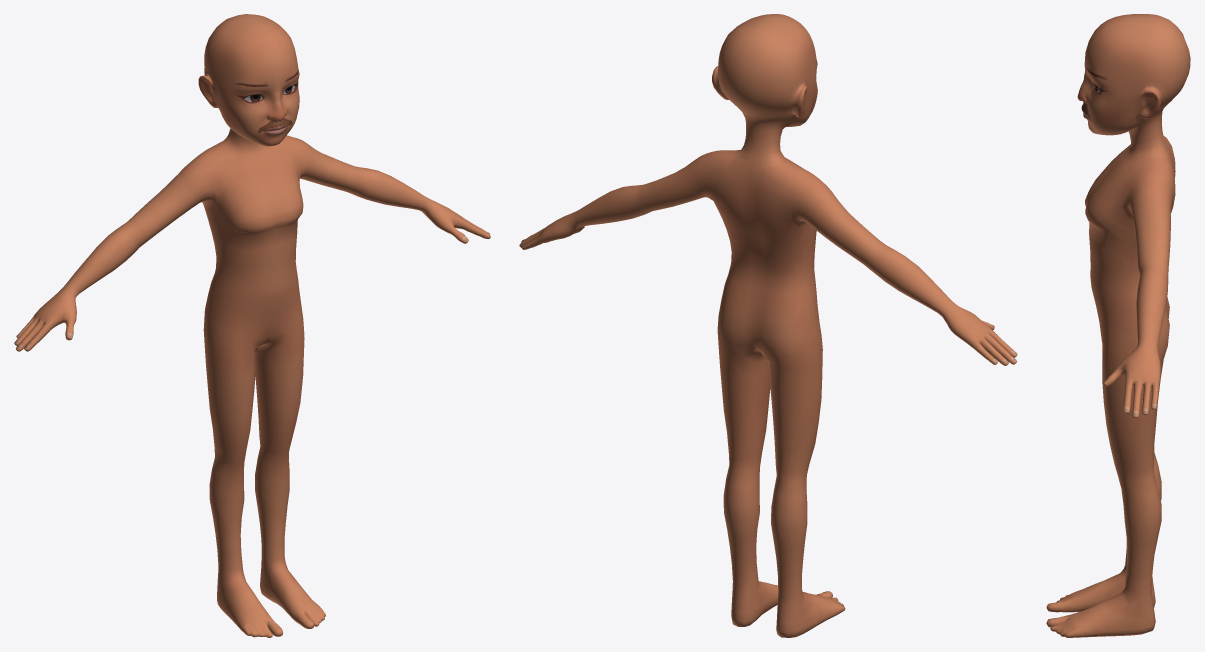
The model's file is frame_0089.glb.
The picture shows the model from 3 angles, left to right: view 1: azimuth 30°, elevation 25°; view 2: azimuth 150°, elevation 25°; view 3: azimuth 270°, elevation 25°; orthographic projection. The views are drawn at different scales.
Parts seen in each view (by area): view 1: frame_0089_head_geo; view 2: frame_0089_head_geo; view 3: frame_0089_head_geo.
Part boxes in pixels (x1,y1,x2,y2): frame_0089_head_geo: [14, 14, 490, 637]; frame_0089_head_geo: [519, 14, 1017, 637]; frame_0089_head_geo: [1046, 14, 1190, 637].
Size of the model in its own units: 1.28 by 1.5 by 0.3253.
3 materials, 3 textured.
